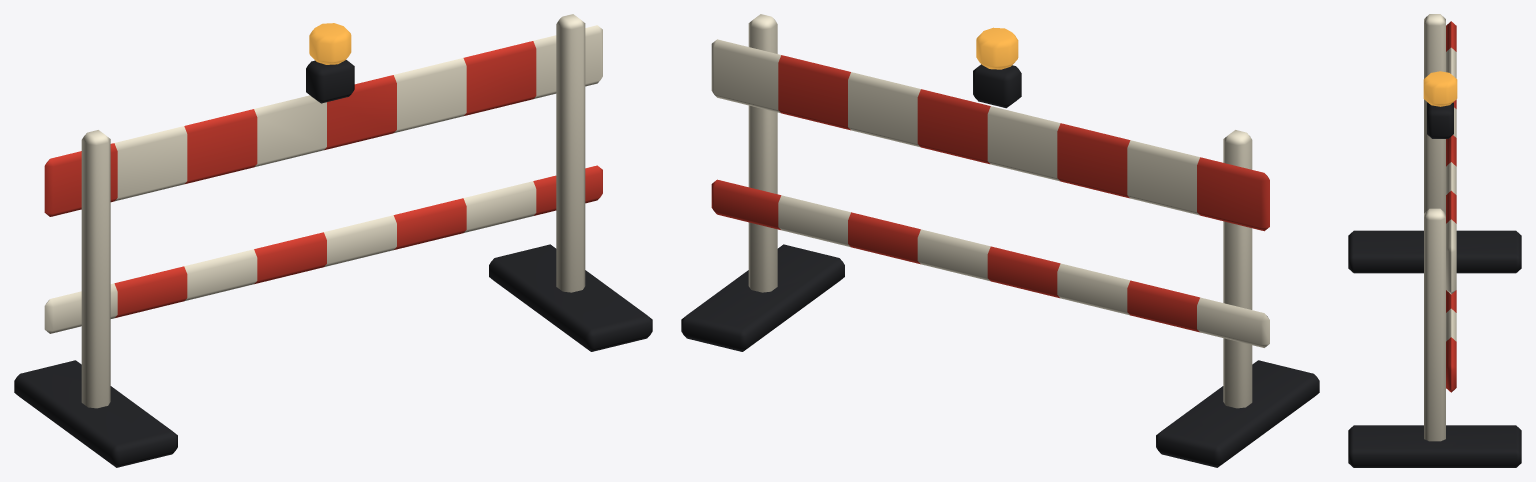
The model's file is road_barrier.glb.
3 renders of one model, left to right at view 1: azimuth 30°, elevation 25°; view 2: azimuth 150°, elevation 25°; view 3: azimuth 270°, elevation 25°, orthographic. The views are drawn at different scales.
Parts seen in each view (by area): view 1: Body, Light; view 2: Body, Light; view 3: Body, Light.
Boxes of the visible parts, left/top/right/bottom form: Body: left=14, top=14, right=652, bottom=467; Light: left=309, top=23, right=351, bottom=64; Body: left=681, top=14, right=1319, bottom=467; Light: left=976, top=27, right=1018, bottom=69; Body: left=1348, top=14, right=1521, bottom=467; Light: left=1423, top=71, right=1457, bottom=106.
Size of the model in its own units: 2 by 1.15 by 0.64.
2 materials, 2 textured.
